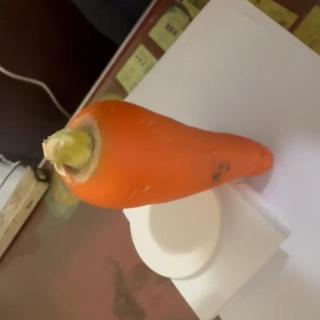carrot: (41, 99, 275, 209)
